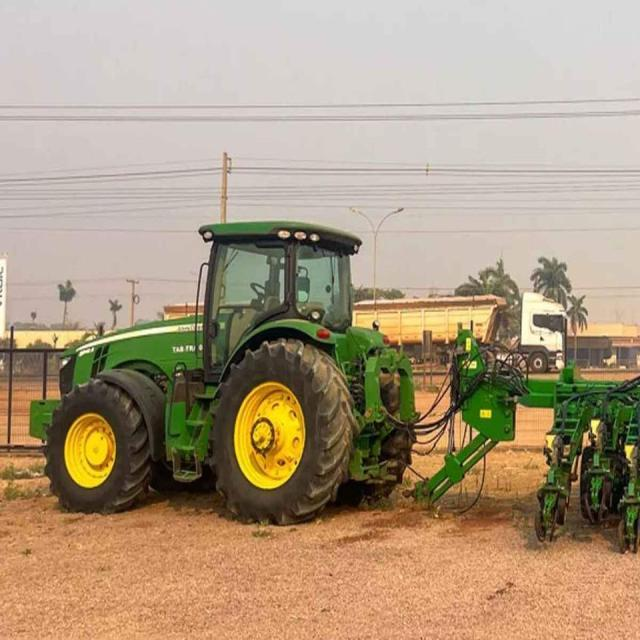Tratores - v5 YOLO V8L 2024-11-13: (28, 216, 414, 526)
